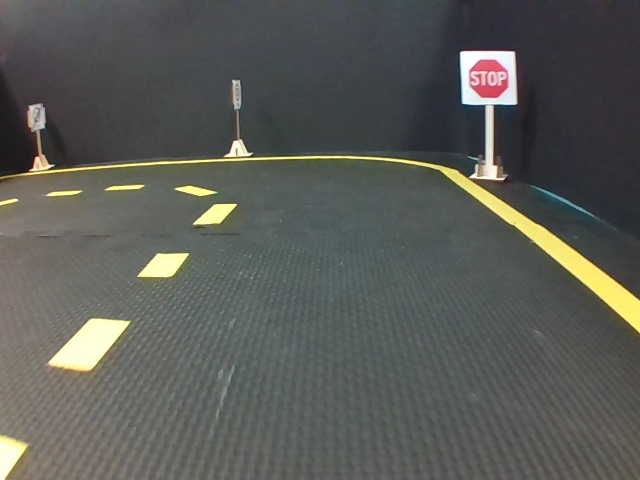30: (234, 81, 241, 110)
no30: (29, 104, 44, 130)
stop: (461, 50, 516, 105)
